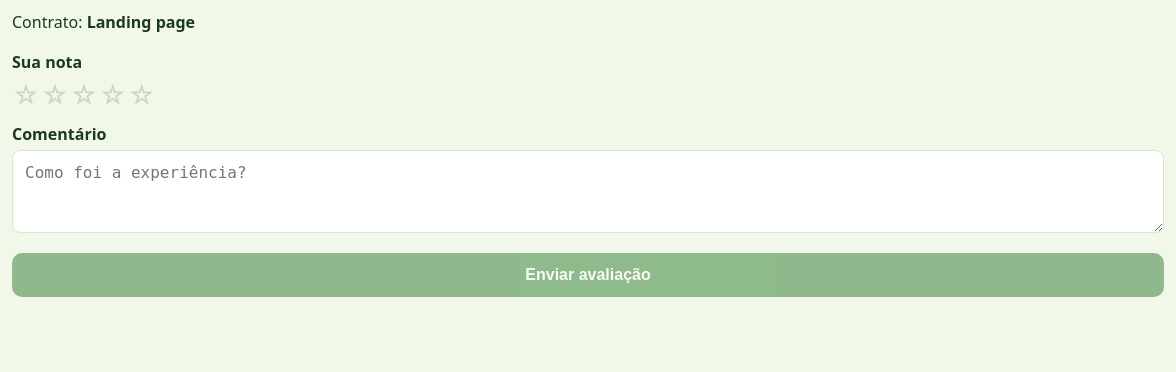
Test: @interface Avaliar › mostra a mensagem de erro quando a API falha
Click the button with test id "estrela-5" at [141, 95], box [128,78,155,112]
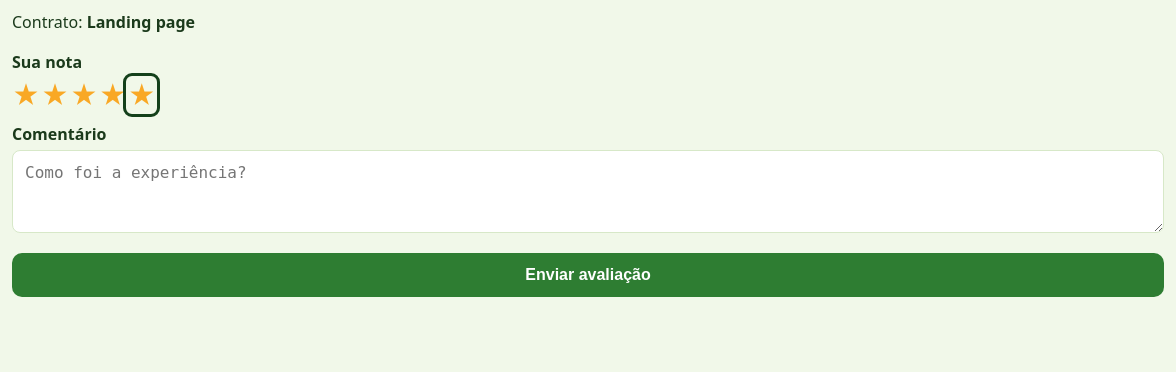
Click the button with test id "enviar-avaliacao" at [588, 275], box [12,253,1164,297]
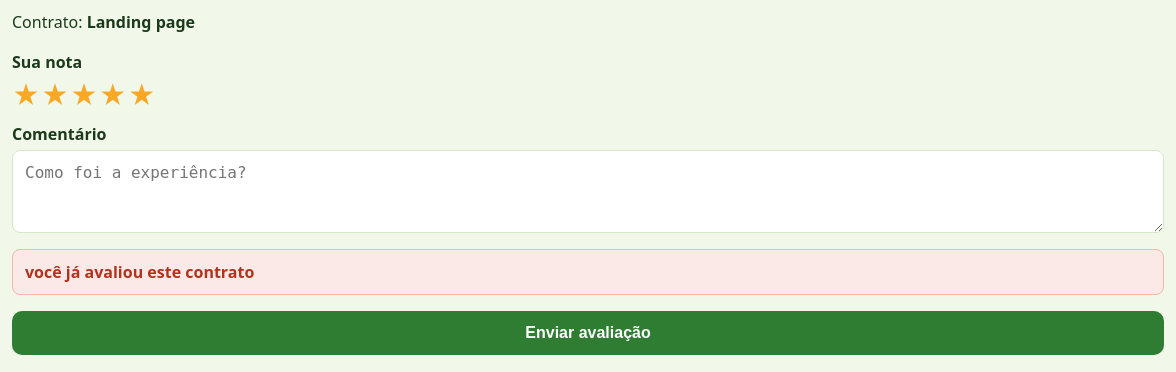
Check: the text "você já avaliou este contrato" is shown, box [12,249,1164,295]
